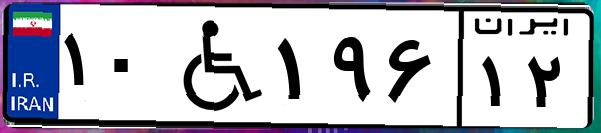0: (110, 28, 158, 98)
1: (270, 28, 330, 110), (57, 26, 110, 100), (475, 38, 525, 113)
2: (525, 38, 570, 115)
6: (385, 28, 445, 110)
9: (330, 28, 385, 110)
ژ (معلولین و جانبازان): (158, 12, 270, 120)
